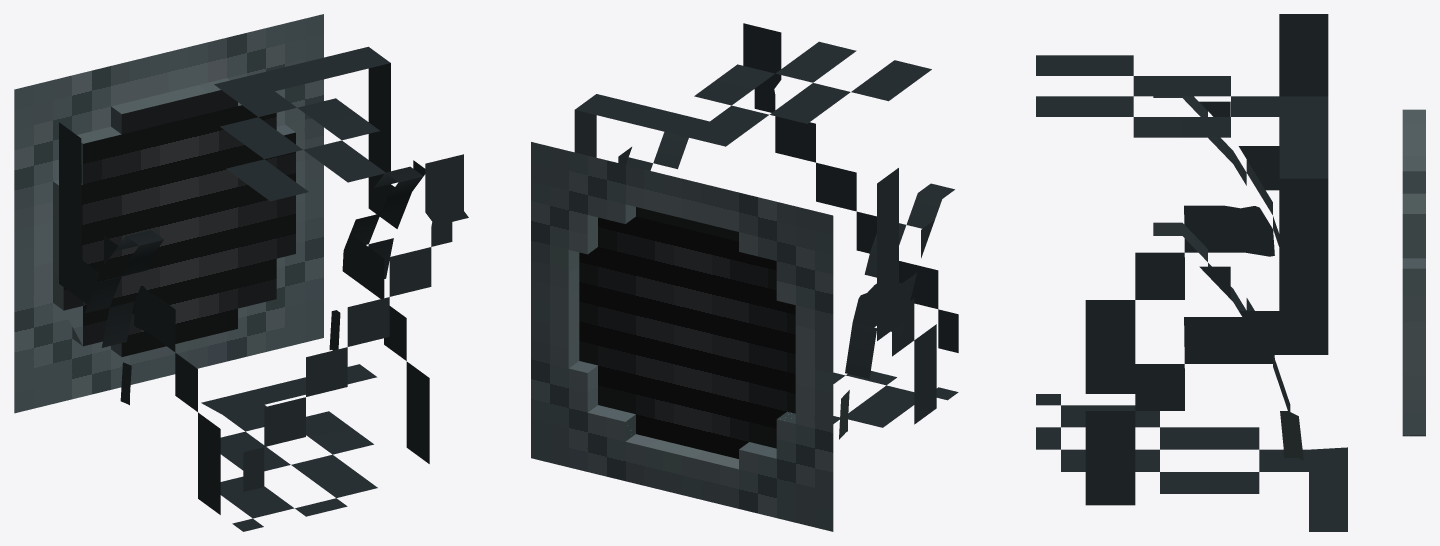
File: pattern_storage.obj
The picture shows the model from 3 angles, left to right: view 1: azimuth 30°, elevation 25°; view 2: azimuth 150°, elevation 25°; view 3: azimuth 270°, elevation 25°; orthographic projection. The views are drawn at different scales.
Visible parts, largest first — view 1: Vents, pattern_storage; view 2: Vents, pattern_storage; view 3: pattern_storage, Vents.
Part boxes in pixels (x1=…): Vents: x1=14, y1=14, x2=323, y2=413; pattern_storage: x1=59, y1=46, x2=468, y2=531; Vents: x1=531, y1=142, x2=833, y2=531; pattern_storage: x1=574, y1=23, x2=958, y2=439; pattern_storage: x1=1036, y1=14, x2=1347, y2=531; Vents: x1=1402, y1=109, x2=1425, y2=436.
Size of the model in its own units: 1 by 1 by 1.
